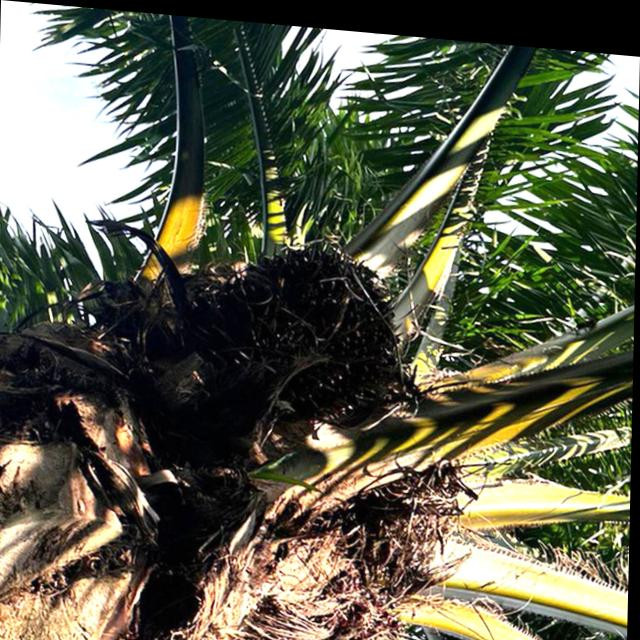ripe: (215, 216, 418, 432)
